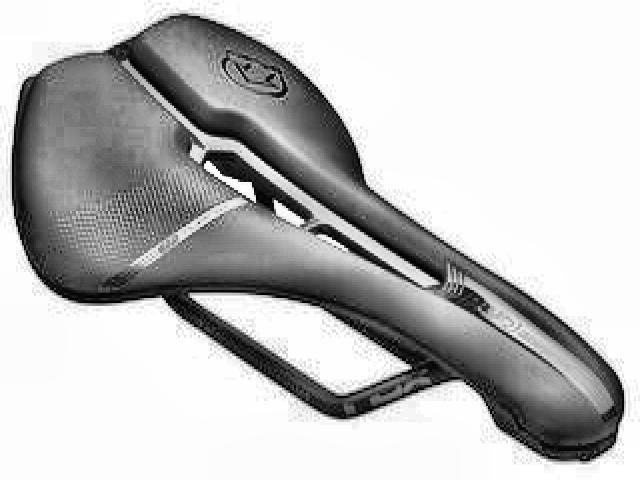saddle: (11, 12, 628, 463)
